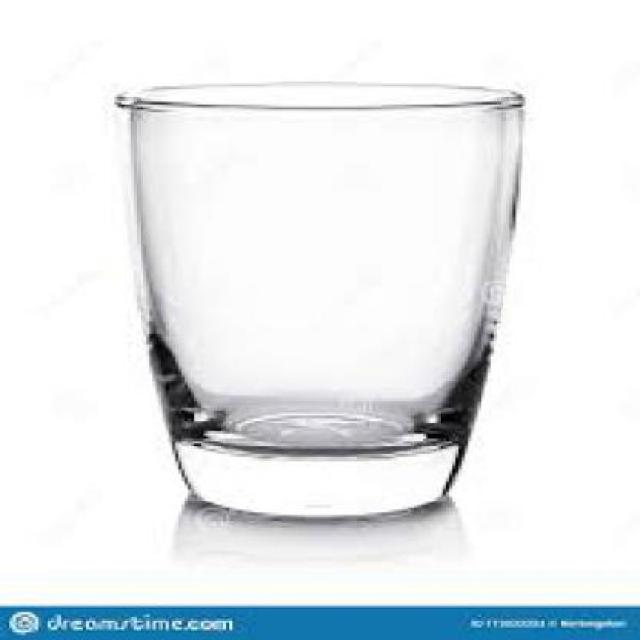kaca: (115, 82, 523, 516)
